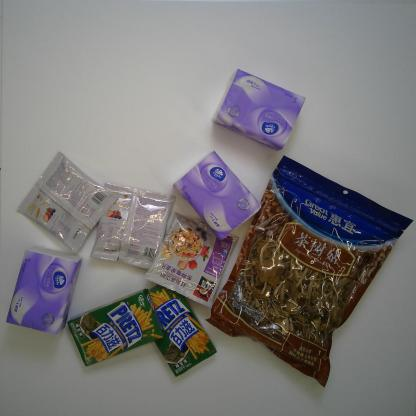Dessert: (66, 288, 164, 368), (147, 284, 218, 378)
Dried Food: (204, 152, 414, 390)
Instant Drink: (15, 150, 119, 255), (145, 212, 240, 308), (88, 181, 176, 270)
Tissue: (172, 150, 262, 241), (212, 68, 306, 152), (5, 250, 83, 337)
